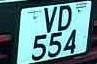4: (63, 29, 78, 57)
5: (30, 33, 49, 62), (46, 32, 64, 59)
D: (58, 3, 73, 33)
V: (41, 6, 59, 34)
